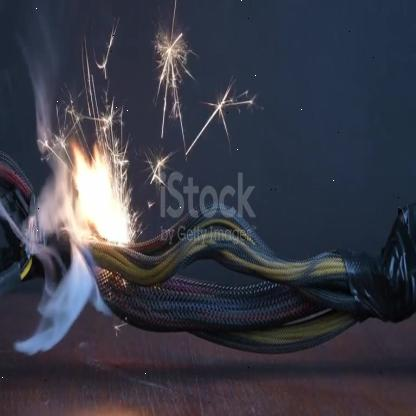fire: (67, 114, 142, 242)
smoke: (0, 6, 92, 371)
